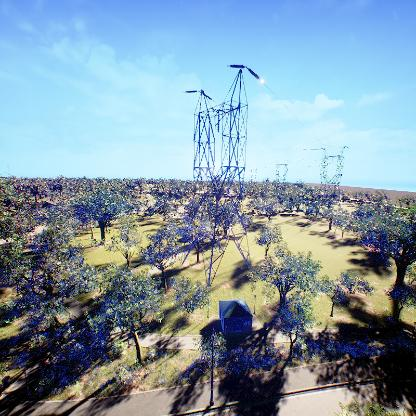tower: (177, 60, 267, 279), (317, 144, 347, 204)
